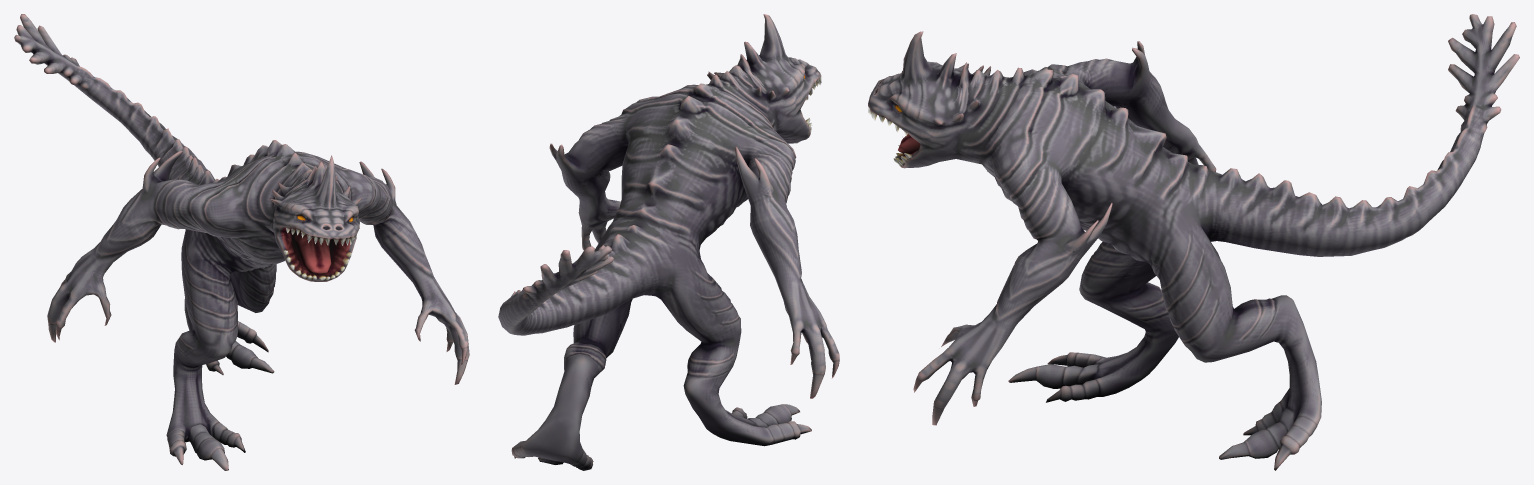
Rendered from MZ4250 - Troglodyte.glb.
The picture shows the model from 3 angles, left to right: view 1: azimuth 30°, elevation 25°; view 2: azimuth 150°, elevation 25°; view 3: azimuth 270°, elevation 25°; orthographic projection. The views are drawn at different scales.
Visible parts, largest first — view 1: body_low.001; view 2: body_low.001; view 3: body_low.001.
Part boxes in pixels (<box>): body_low.001: <box>14,14,469,470</box>; body_low.001: <box>498,14,839,470</box>; body_low.001: <box>868,14,1519,470</box>.
Size of the model in its own units: 5.5 by 5.37 by 8.07.
Materials: 1 (1 with a texture image).
